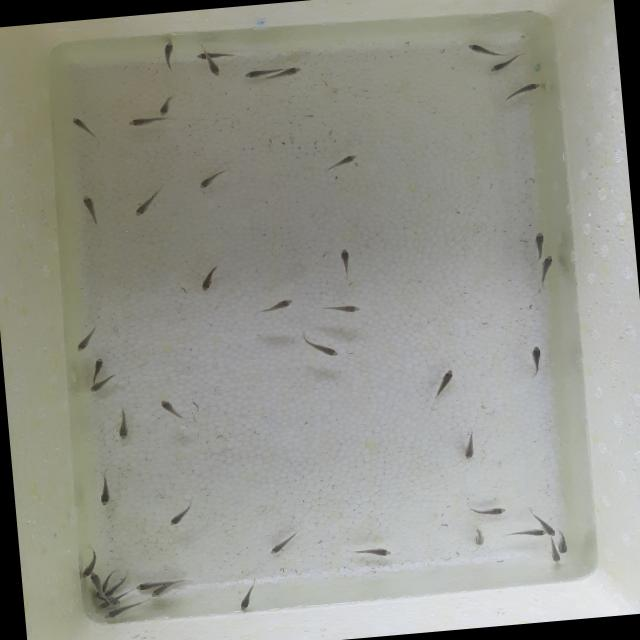fingerling: (294, 326, 340, 360), (130, 182, 170, 218), (263, 525, 305, 556), (163, 494, 201, 528), (498, 80, 542, 106), (68, 113, 104, 144), (234, 573, 260, 613), (155, 396, 189, 426), (156, 32, 180, 74), (348, 542, 398, 562), (77, 190, 103, 227), (94, 469, 118, 508), (532, 254, 558, 290), (113, 404, 136, 444), (196, 166, 234, 190), (319, 152, 360, 174), (72, 324, 102, 354), (196, 262, 224, 294), (464, 500, 511, 519), (318, 300, 367, 318), (252, 296, 298, 314), (466, 40, 507, 60), (432, 367, 458, 398), (125, 114, 177, 129), (487, 54, 525, 74), (85, 374, 122, 394), (190, 48, 240, 62), (525, 344, 546, 377), (459, 428, 479, 462), (154, 88, 179, 115), (76, 548, 97, 578), (101, 604, 140, 620), (528, 229, 550, 255), (86, 350, 106, 378), (101, 578, 130, 597), (468, 523, 489, 549), (337, 247, 354, 276), (536, 514, 558, 536), (271, 66, 306, 78), (510, 527, 548, 538), (205, 58, 222, 82), (546, 536, 560, 564), (85, 572, 104, 590), (240, 68, 266, 80), (557, 530, 569, 554), (146, 588, 166, 600), (132, 578, 150, 590)
